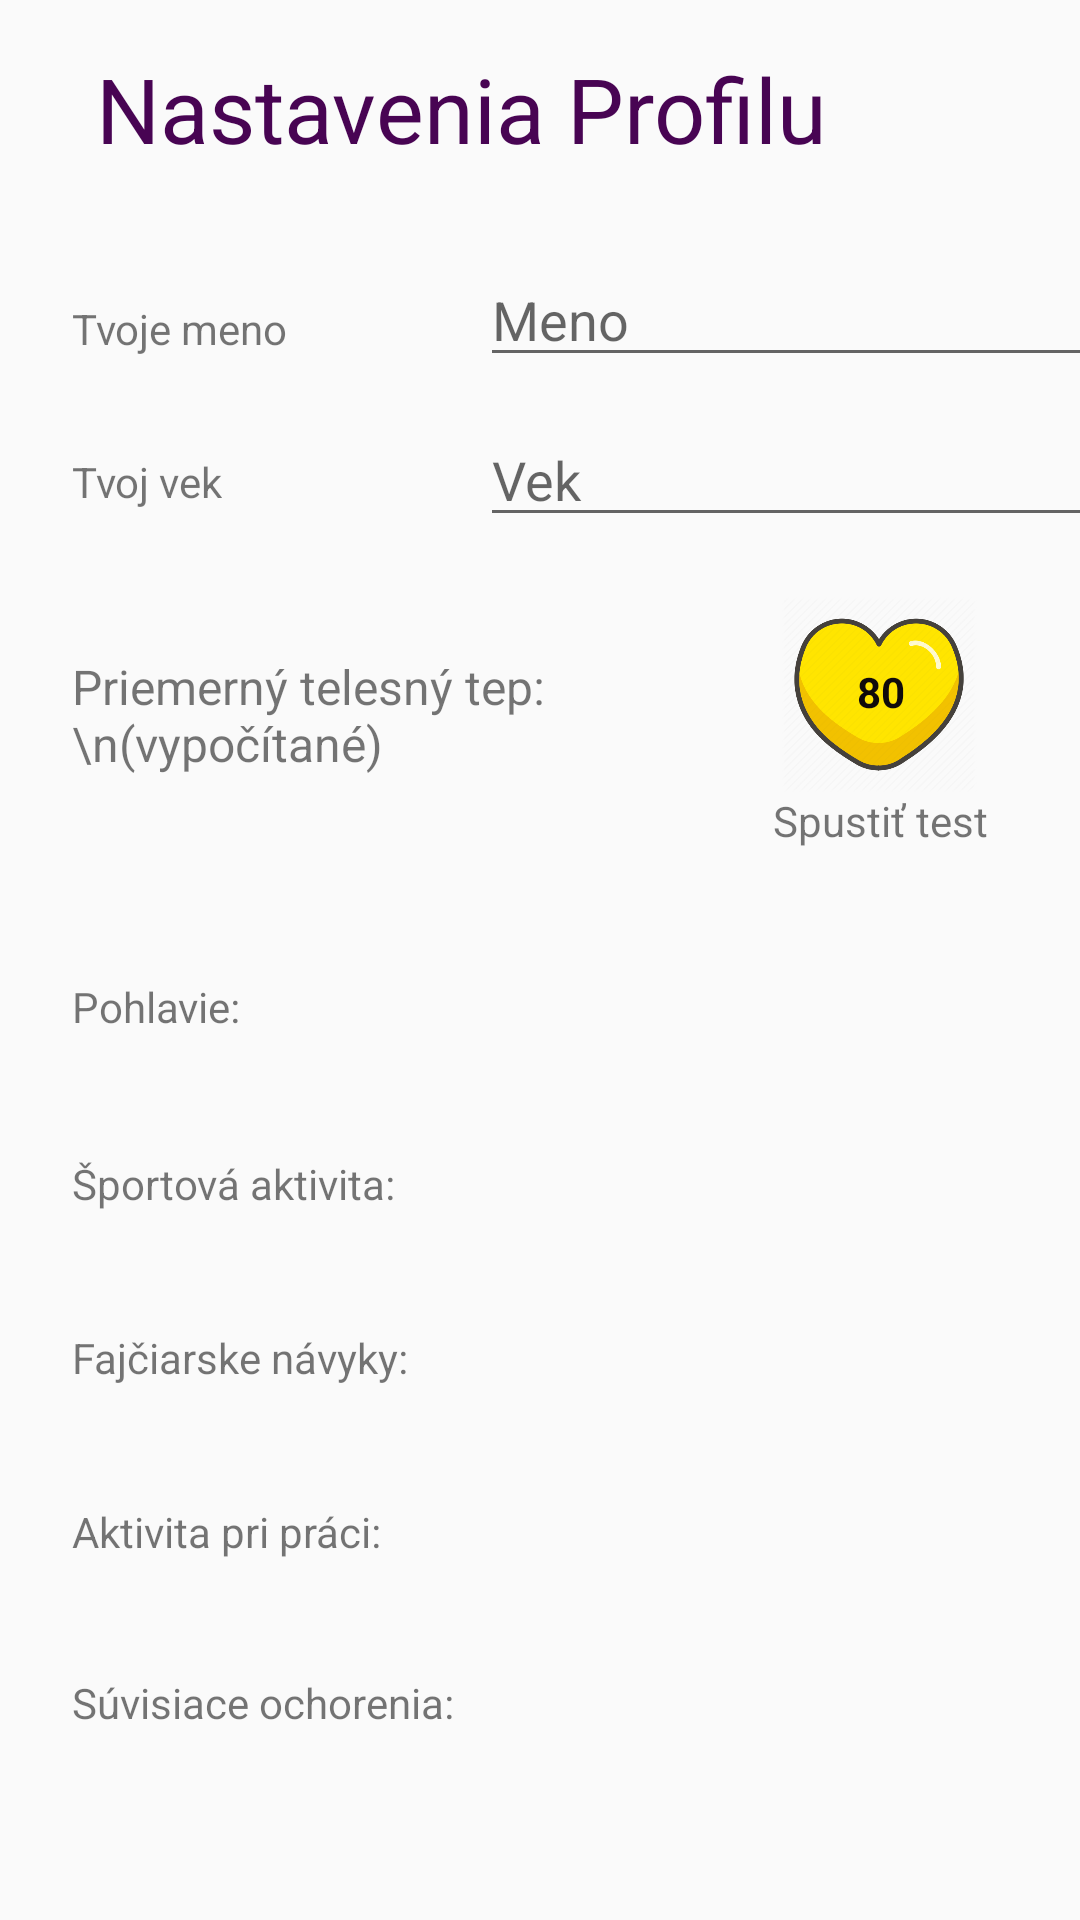

Point at icon controls on the screen. Image size 1080×1920, points as [x,y].
heart: [879,694]
